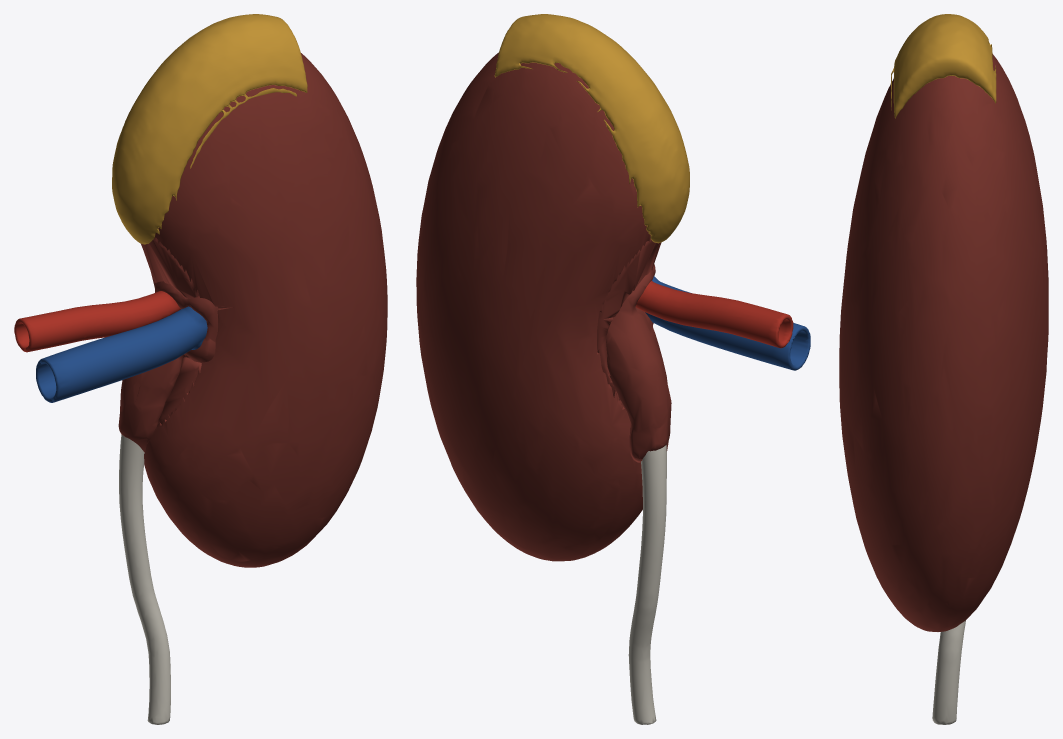
File: kidney_hydro_1.glb
3 renders of one model, left to right at view 1: azimuth 30°, elevation 25°; view 2: azimuth 150°, elevation 25°; view 3: azimuth 270°, elevation 25°, orthographic. The views are drawn at different scales.
Visible parts, largest first — view 1: kidney_body, adrenal_gland, renal_vein, ureter, renal_artery; view 2: kidney_body, adrenal_gland, ureter, renal_artery, renal_vein; view 3: kidney_body, adrenal_gland, ureter.
Boxes of the visible parts, left/top/right/bottom form: kidney_body: left=118, top=53, right=387, bottom=567; adrenal_gland: left=112, top=14, right=307, bottom=244; renal_vein: left=36, top=306, right=207, bottom=402; ureter: left=119, top=434, right=170, bottom=724; renal_artery: left=14, top=291, right=180, bottom=352; kidney_body: left=416, top=52, right=671, bottom=561; adrenal_gland: left=494, top=14, right=689, bottom=243; ureter: left=628, top=445, right=666, bottom=724; renal_artery: left=635, top=280, right=793, bottom=348; renal_vein: left=645, top=276, right=810, bottom=370; kidney_body: left=839, top=54, right=1048, bottom=631; adrenal_gland: left=890, top=14, right=996, bottom=118; ureter: left=932, top=620, right=965, bottom=724.
Bounding box in the file's own units: 7.85 × 14.23 × 3.65.
